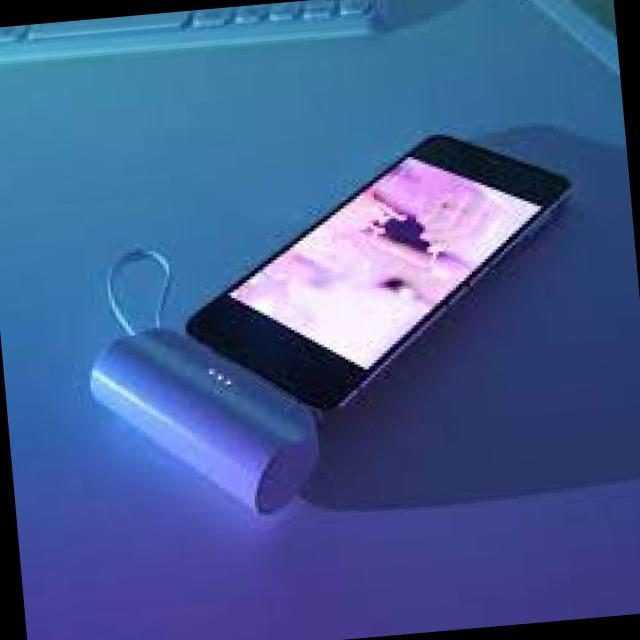power_bank: (84, 305, 337, 535)
